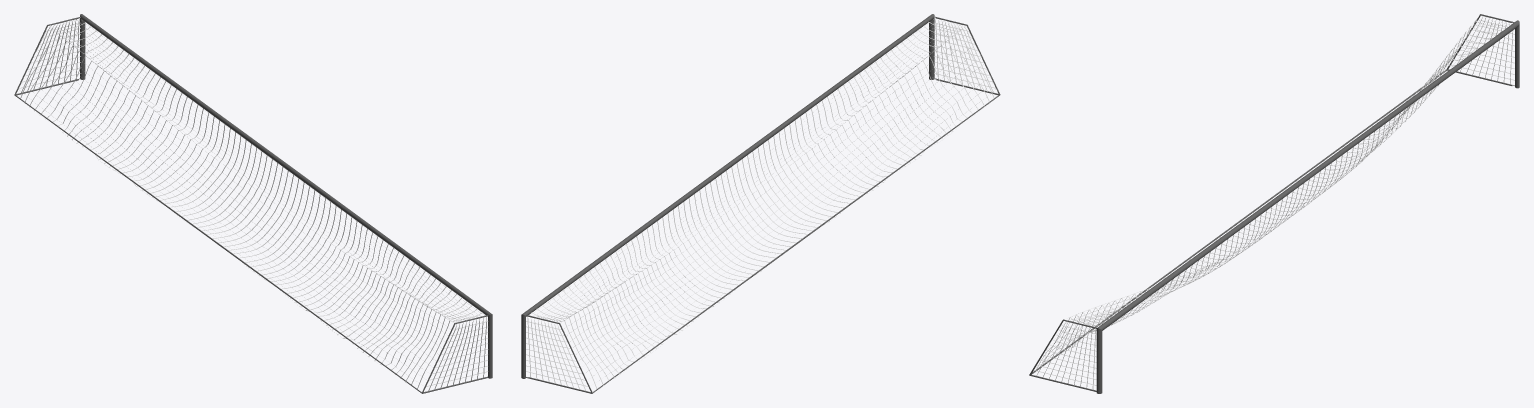
The model's file is arco.fbx.
The picture shows the model from 3 angles, left to right: view 1: azimuth 30°, elevation 25°; view 2: azimuth 150°, elevation 25°; view 3: azimuth 330°, elevation 25°; orthographic projection. The views are drawn at different scales.
Visible parts, largest first — view 1: Cube, Cylinder, Plane; view 2: Cube, Cylinder, Plane; view 3: Cube, Cylinder, Plane.
Boxes of the visible parts, x1,y1,x2,y2 form: Cube: (19, 17, 488, 391); Cylinder: (80, 14, 492, 378); Plane: (14, 17, 488, 393); Cube: (526, 17, 995, 390); Cylinder: (521, 14, 934, 378); Plane: (526, 16, 1000, 393); Cube: (1034, 15, 1514, 389); Cylinder: (1096, 20, 1519, 393); Plane: (1029, 14, 1514, 391).
Bounding box in the file's own units: 306 × 270 × 3022.
Materials: 1 (1 with a texture image).
